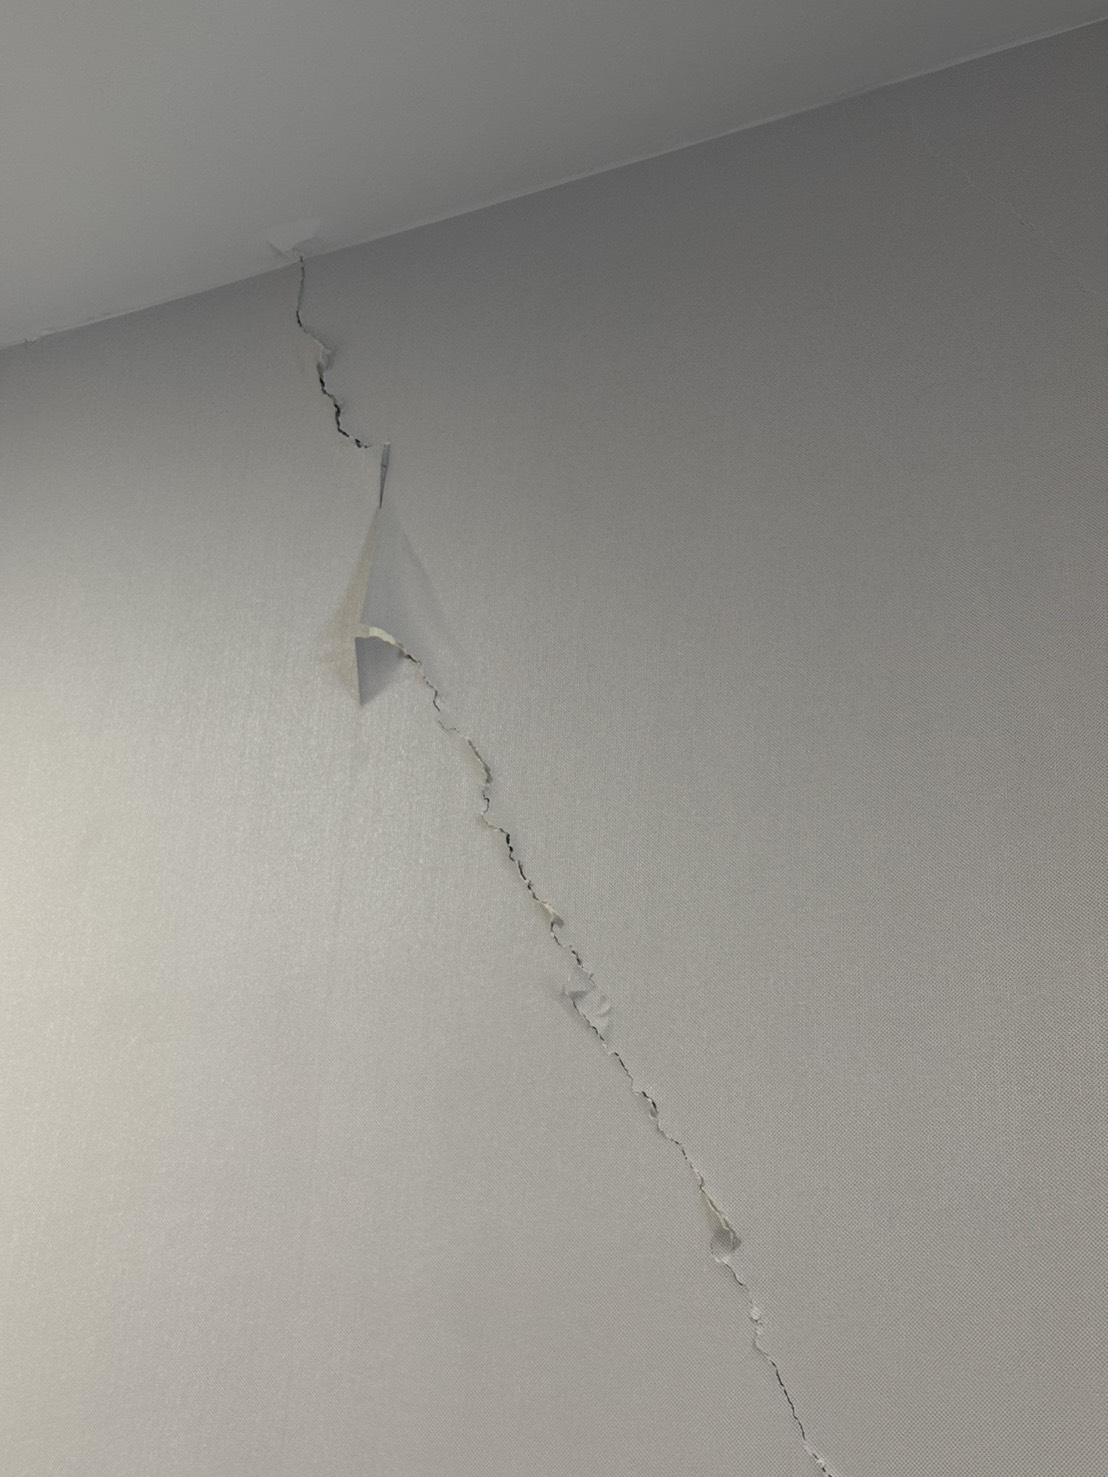Medium: (277, 303, 892, 1437)
